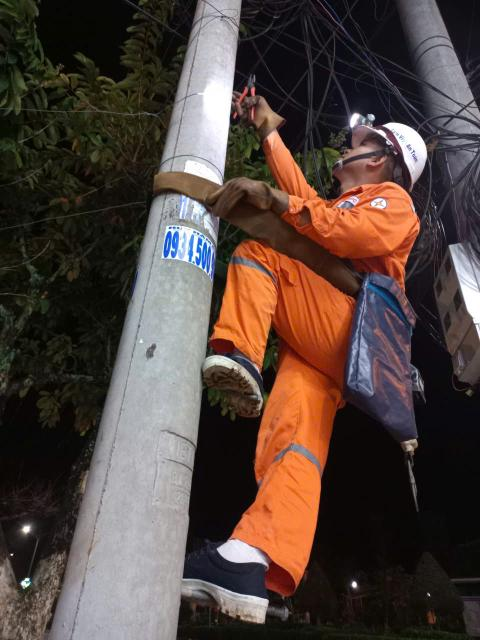gloves: (192, 73, 295, 143)
harness: (248, 208, 420, 327)
helmet: (323, 84, 443, 191)
shoes: (158, 522, 305, 622), (178, 341, 297, 431)
